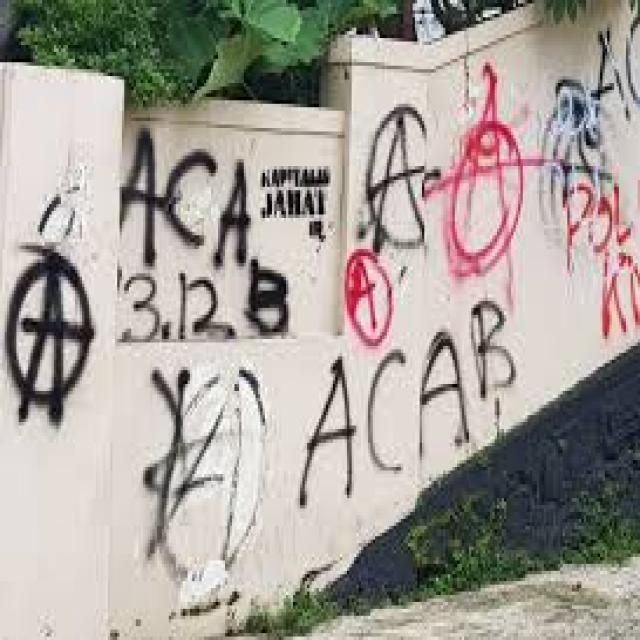-: (146, 368, 270, 617), (430, 62, 543, 281), (120, 127, 249, 266), (297, 354, 405, 506), (10, 244, 95, 433), (418, 296, 516, 452), (554, 18, 639, 194), (561, 180, 640, 338), (120, 272, 290, 340), (367, 106, 425, 250), (346, 245, 392, 348), (260, 164, 330, 220), (38, 185, 79, 242)
